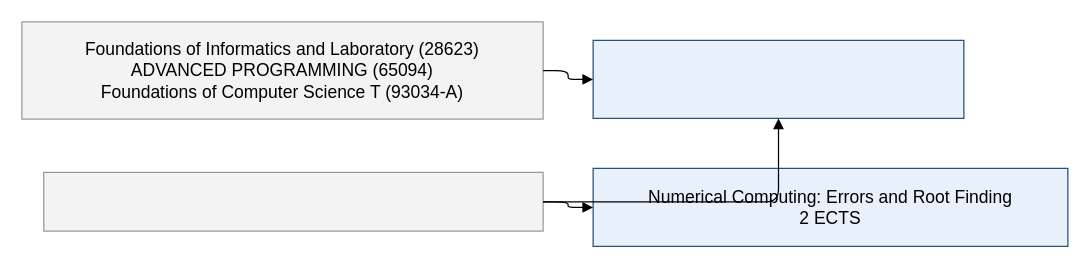
This 1090x269 diagram has some shape labels left out. Each missing label, with the centre of its shape:
Foundations of Informatics T (29227-A, 29227-B): (292,201)
Numerical Computing Foundations 2 ECTS: (778,78)
